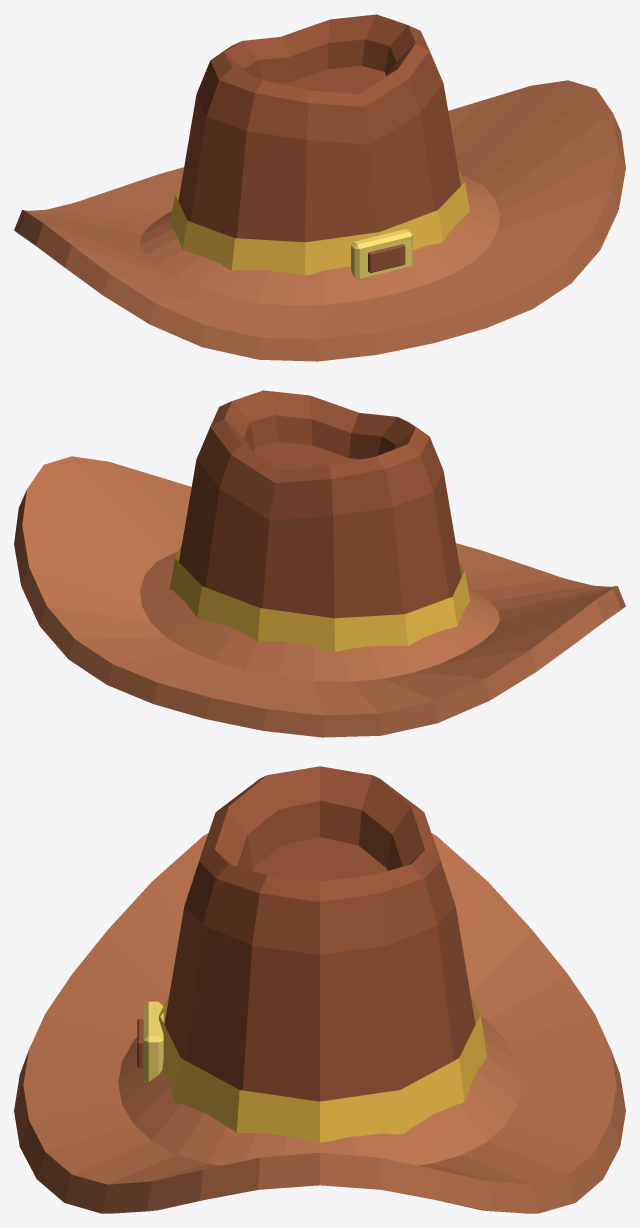
File: Hat.fbx
3 views of the same model, one above another, from view 1: azimuth 30°, elevation 25°; view 2: azimuth 150°, elevation 25°; view 3: azimuth 270°, elevation 25° (orthographic). The views are drawn at different scales.
Parts seen in each view (by area): view 1: GEO-Cowboy_Hat-gold_hat_band; view 2: GEO-Cowboy_Hat-gold_hat_band; view 3: GEO-Cowboy_Hat-gold_hat_band.
Part boxes in pixels (x1,y1,x2,y2): GEO-Cowboy_Hat-gold_hat_band: (14,14,625,361); GEO-Cowboy_Hat-gold_hat_band: (14,390,625,737); GEO-Cowboy_Hat-gold_hat_band: (14,766,625,1213).
Bounding box in the file's own units: 53.56 × 19.4 × 37.16.
